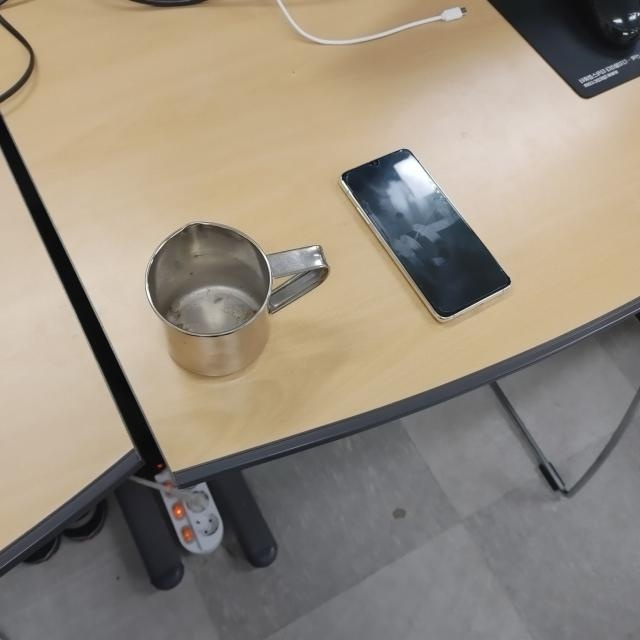cup: (148, 219, 328, 378)
phone: (340, 147, 511, 329)
